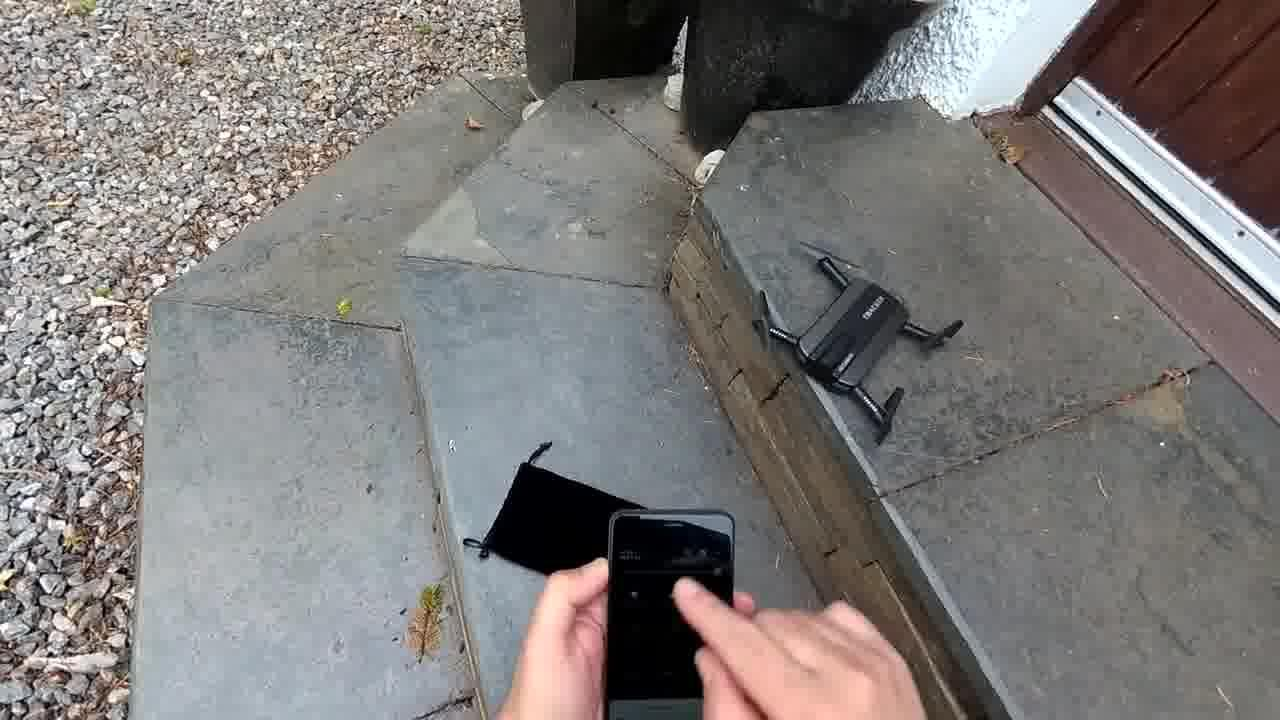drone: (746, 229, 963, 439)
